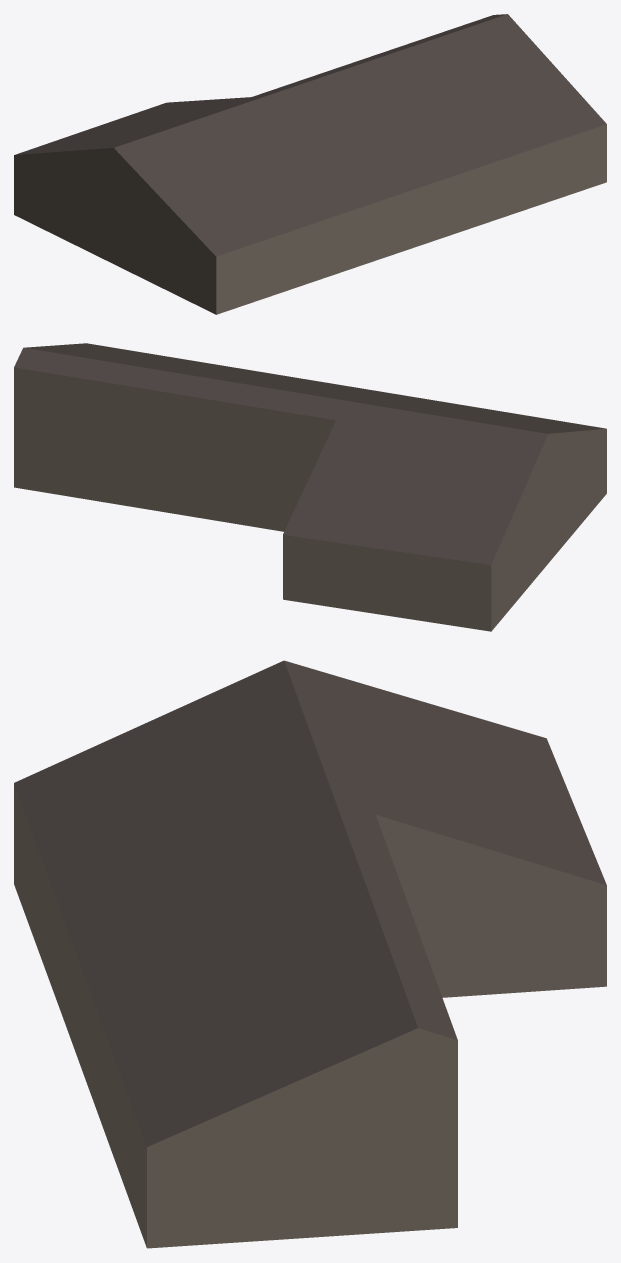
3 renders of one model, top to bottom at view 1: azimuth 30°, elevation 25°; view 2: azimuth 150°, elevation 25°; view 3: azimuth 270°, elevation 25°, orthographic. The views are drawn at different scales.
Parts seen in each view (by area): view 1: HP-w858807475; view 2: HP-w858807475; view 3: HP-w858807475.
Boxes of the visible parts, x1,y1,x2,y2 form: HP-w858807475: (14,14,606,314); HP-w858807475: (14,343,606,631); HP-w858807475: (14,660,606,1248).
Bounding box in the file's own units: 25.8 × 6 × 15.92.
